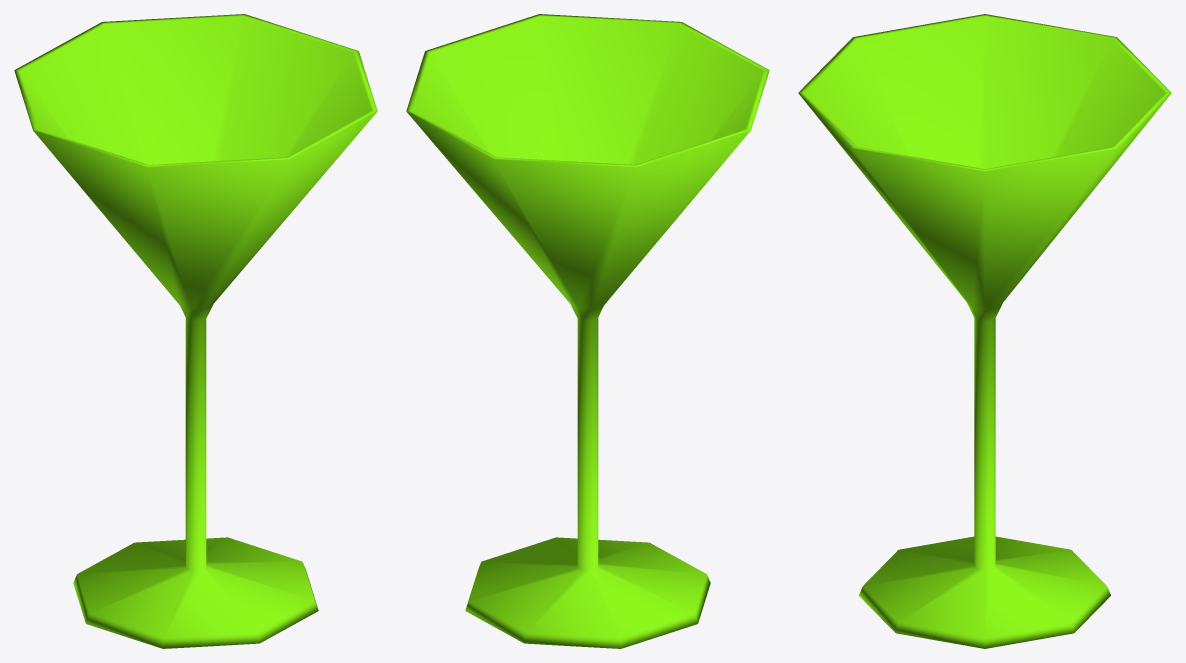
Rendered from T-Virus.fbx.
3 views of the same model, side by side, from view 1: azimuth 30°, elevation 25°; view 2: azimuth 150°, elevation 25°; view 3: azimuth 270°, elevation 25° (orthographic).
Parts seen in each view (by area): view 1: brocken; view 2: brocken; view 3: brocken.
Part boxes in pixels (box(x1,y1,x2,y2)): brocken: box(14, 14, 377, 648); brocken: box(406, 14, 769, 648); brocken: box(798, 14, 1171, 648).
Size of the model in its own units: 0.0642 by 0.0953 by 0.0642.
